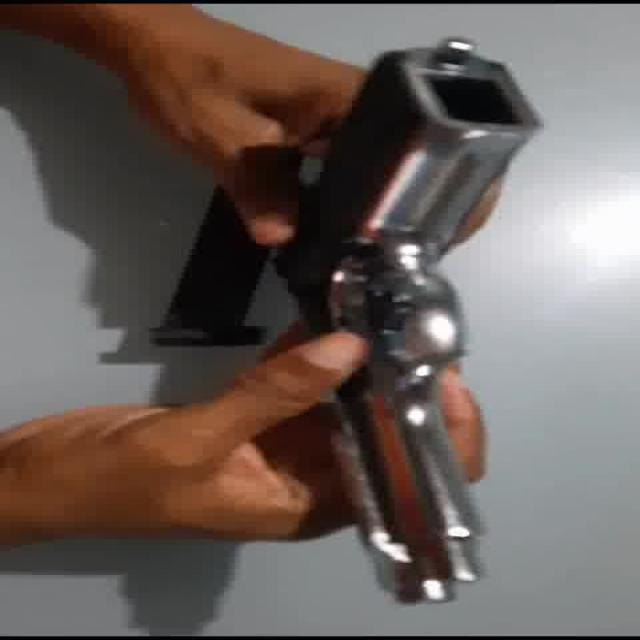weapon: (272, 34, 544, 604)
